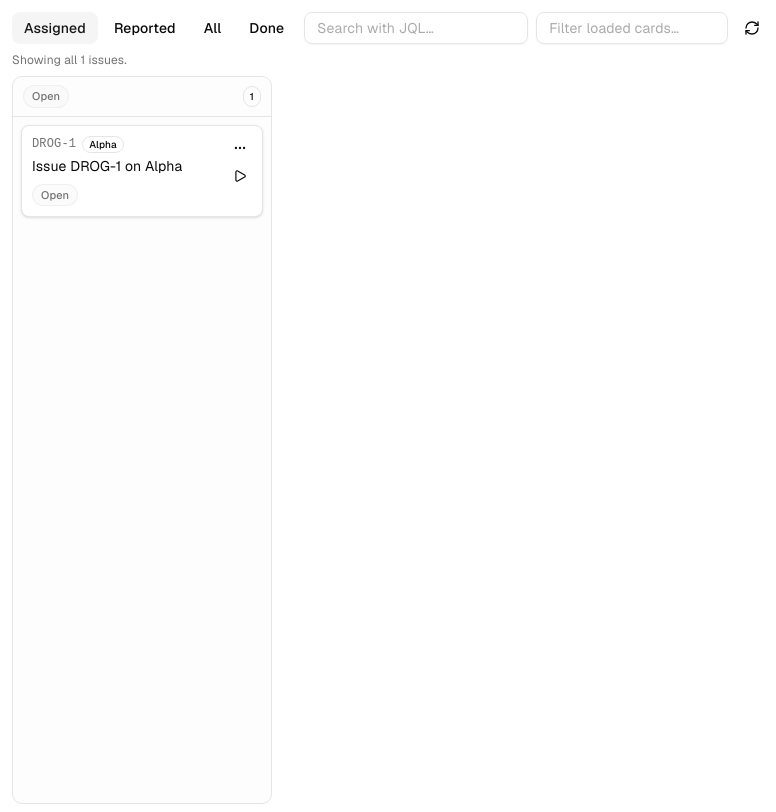
Test: JiraKanbanBoard › refuses a second move while one is pending (no duplicate POST)
The width and height of the screenshot is (776, 812).
Expected: the list item "DROG-1 Alpha Issue DROG-1 on Alpha Open" is shown, top-left (21, 124), bottom-right (263, 217)
Click the button named "Transitions for DROG-1": (240, 148) top-left (228, 136), bottom-right (252, 160)
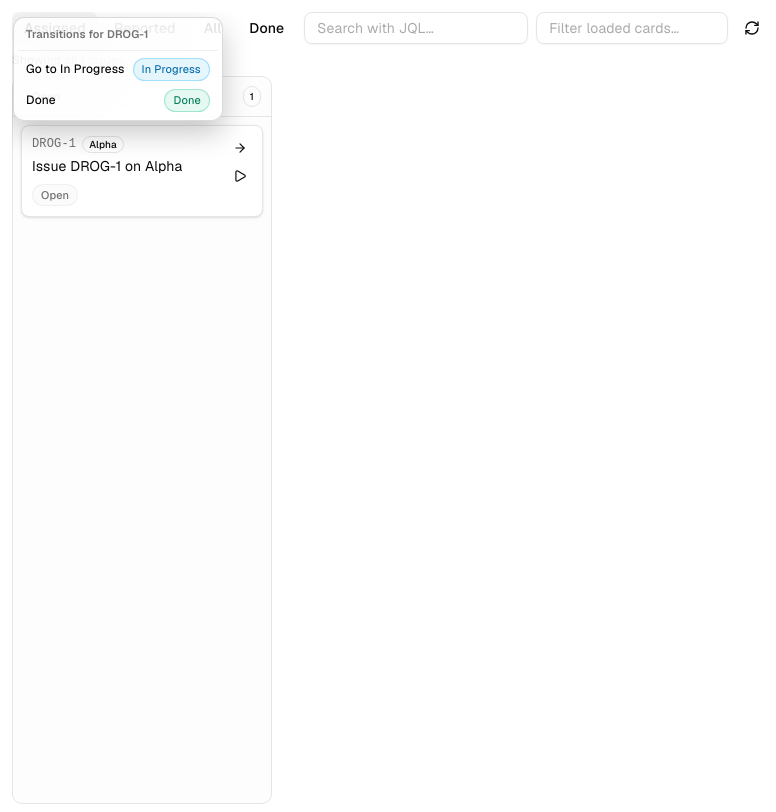
Expected: the menu item "Go to In Progress In Progress" is shown
Click the menu item "Go to In Progress In Progress": (118, 69) top-left (18, 54), bottom-right (218, 84)
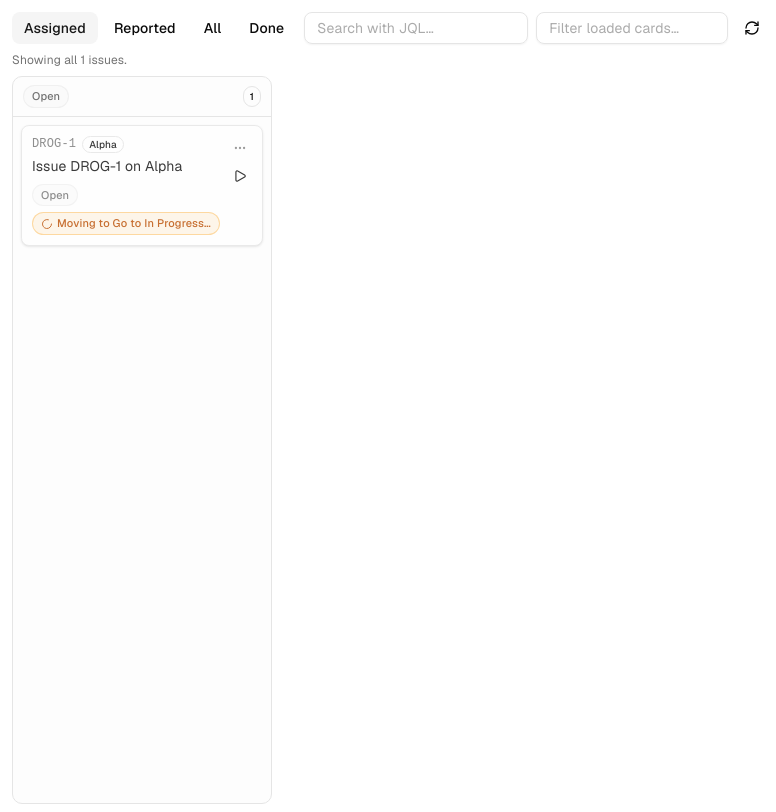
Expected: the element showing "Moving to Go to In Progress…" is shown, top-left (32, 212), bottom-right (220, 235)
Expected: the button named "Transitions for DROG-1" is disabled, top-left (228, 136), bottom-right (252, 160)
